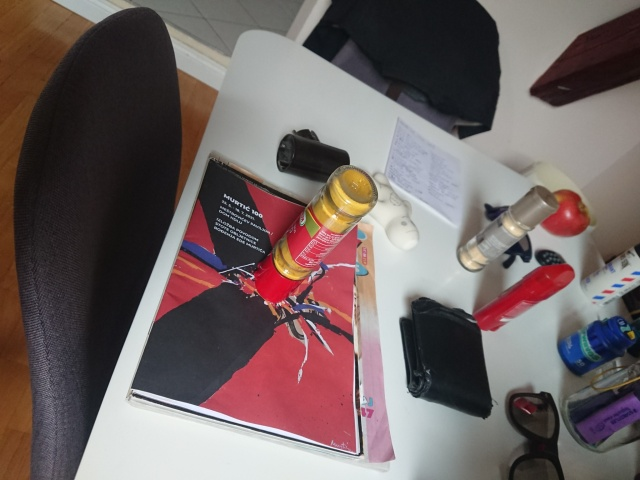Kotanyi Curry Spices Mix 70g: (249, 162, 380, 306)
